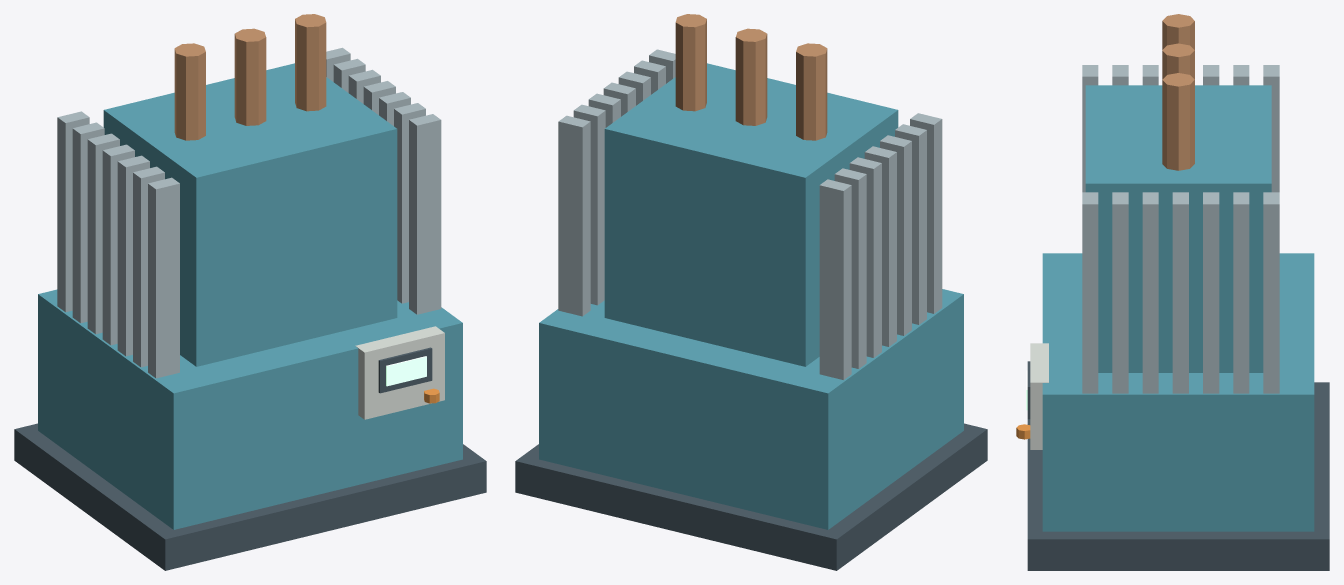
File: electrical-transformer.glb
The picture shows the model from 3 angles, left to right: view 1: azimuth 30°, elevation 25°; view 2: azimuth 150°, elevation 25°; view 3: azimuth 270°, elevation 25°; orthographic projection.
Parts seen in each view (by area): view 1: blue, steel, dark, copper, cream, light; view 2: blue, steel, dark, copper; view 3: blue, steel, dark, copper, cream.
Part boxes in pixels (bbox=[...]): blue: bbox=[38, 63, 462, 529]; steel: bbox=[57, 47, 441, 378]; dark: bbox=[14, 347, 486, 570]; copper: bbox=[174, 14, 326, 140]; cream: bbox=[355, 326, 444, 419]; light: bbox=[386, 356, 426, 386]; blue: bbox=[539, 63, 963, 529]; steel: bbox=[558, 49, 942, 379]; dark: bbox=[515, 423, 987, 570]; copper: bbox=[675, 14, 827, 140]; blue: bbox=[1042, 85, 1314, 531]; steel: bbox=[1082, 65, 1279, 393]; dark: bbox=[1027, 361, 1329, 570]; copper: bbox=[1162, 14, 1194, 170]; cream: bbox=[1030, 343, 1048, 449].
Size of the model in its own units: 1.6 by 2.1 by 1.35.
